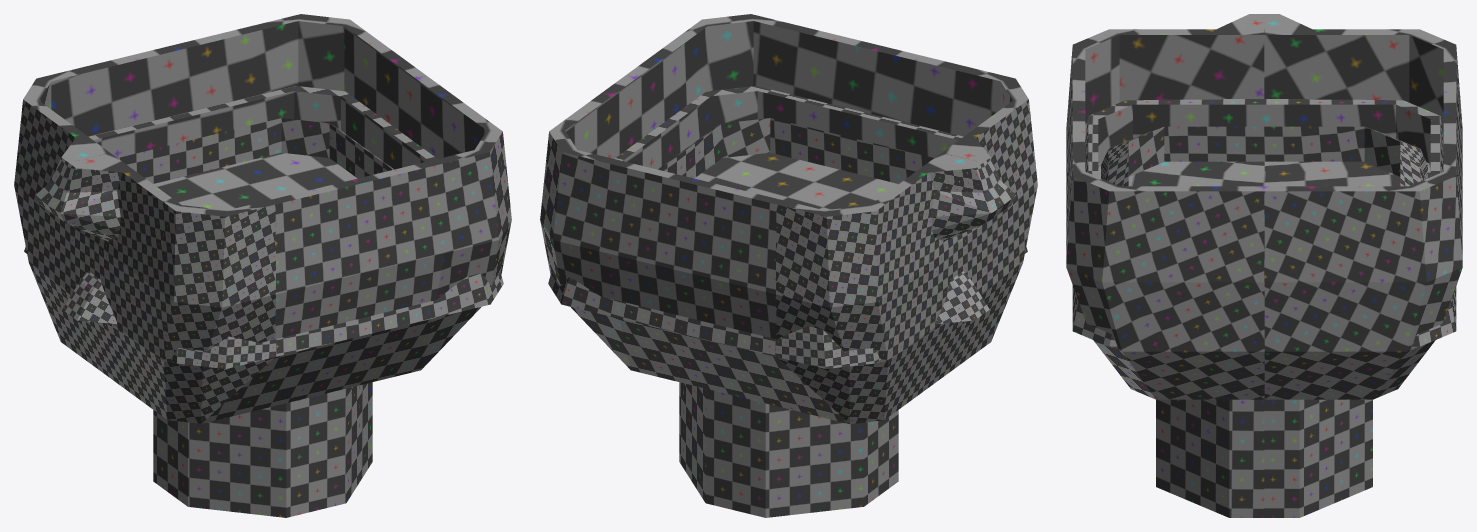
File: HeadComplete.glb
The picture shows the model from 3 angles, left to right: view 1: azimuth 30°, elevation 25°; view 2: azimuth 150°, elevation 25°; view 3: azimuth 270°, elevation 25°; orthographic projection.
Visible parts, largest first — view 1: Head-bottom-half, Eye-Plate, Head-Top; view 2: Head-bottom-half, Eye-Plate, Head-Top; view 3: Head-bottom-half, Eye-Plate, Head-Top.
Boxes of the visible parts, left/top/right/bottom form: Head-bottom-half: left=14, top=14, right=511, bottom=517; Eye-Plate: left=24, top=86, right=503, bottom=368; Head-Top: left=118, top=118, right=393, bottom=183; Head-bottom-half: left=540, top=14, right=1037, bottom=517; Eye-Plate: left=548, top=86, right=1027, bottom=368; Head-Top: left=658, top=118, right=933, bottom=183; Head-bottom-half: left=1066, top=14, right=1462, bottom=517; Eye-Plate: left=1072, top=99, right=1456, bottom=346; Head-Top: left=1101, top=126, right=1427, bottom=186.
Size of the model in its own units: 2.08 by 1.84 by 1.83.
Materials: 1 (1 with a texture image).
